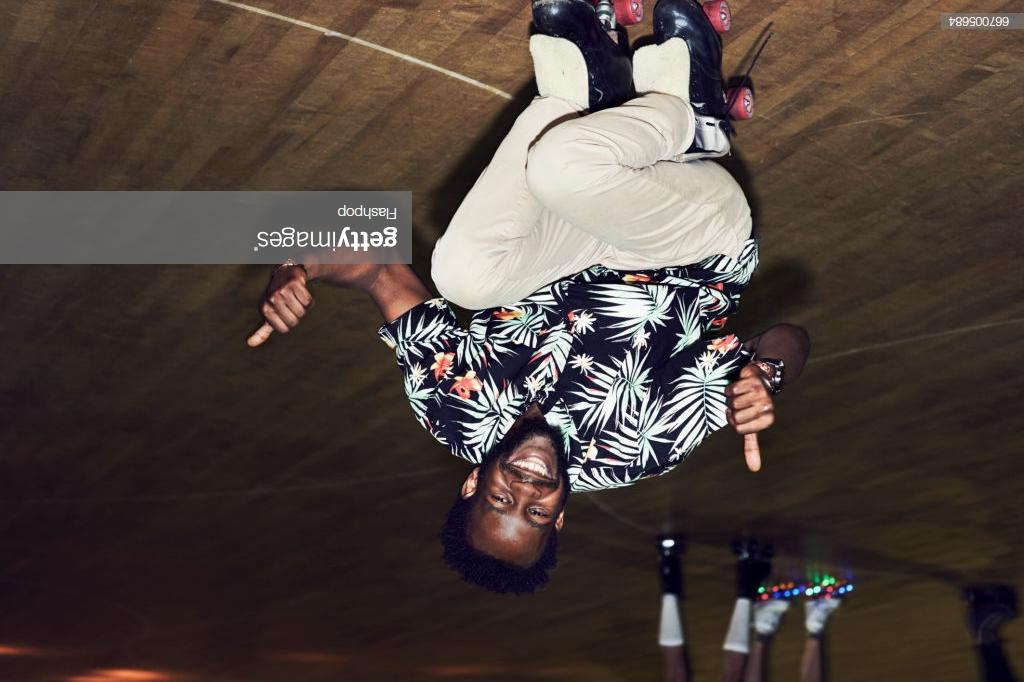thumbsdown: (246, 277, 317, 348), (724, 377, 776, 473)
